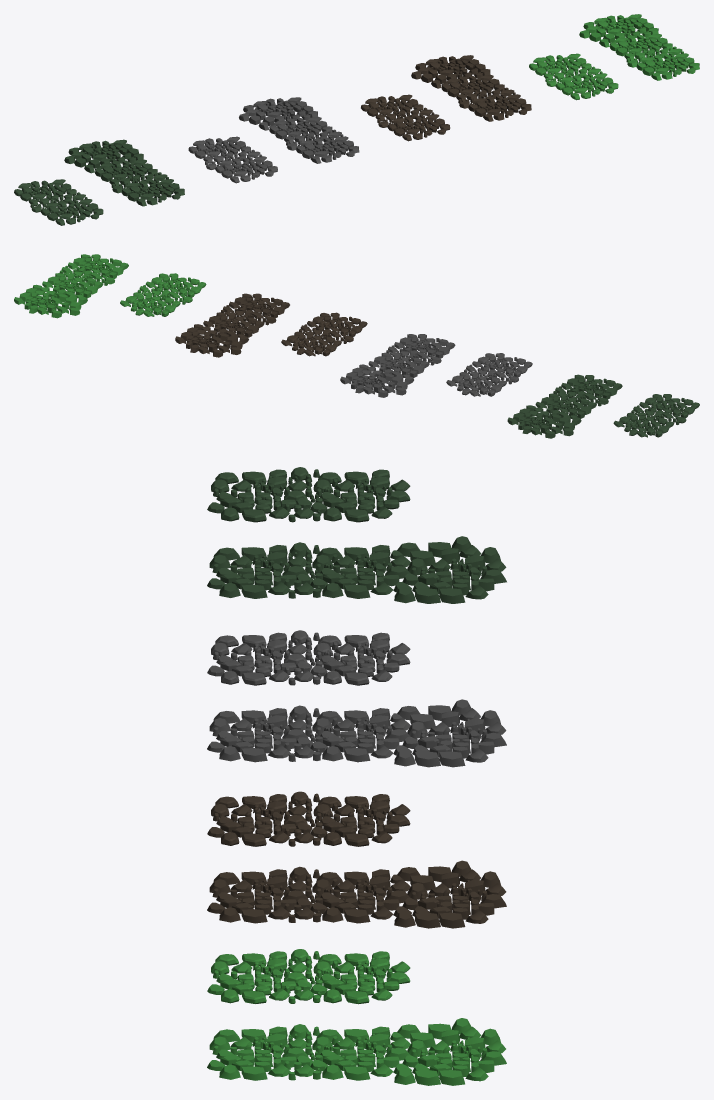
File: rocks.fbx
3 views of the same model, one above another, from view 1: azimuth 30°, elevation 25°; view 2: azimuth 150°, elevation 25°; view 3: azimuth 270°, elevation 25° (orthographic). The views are drawn at different scales.
Visible parts, largest first — view 1: pCube1151, pCube1154, pCube1156, pCube1149, pCube1155, pCube1152, pCube1150, pCube1153; view 2: pCube1156, pCube1151, pCube1149, pCube1154, pCube1152, pCube1150, pCube1155, pCube1153; view 3: pCube1154, pCube1149, pCube1151, pCube1156, pCube1155, pCube1153, pCube1152, pCube1150.
Boxes of the visible parts, x1,y1,x2,y2 form: pCube1151: [64, 139, 184, 206]; pCube1154: [411, 55, 531, 121]; pCube1156: [579, 14, 699, 80]; pCube1149: [239, 97, 359, 163]; pCube1155: [529, 53, 618, 100]; pCube1152: [14, 179, 103, 225]; pCube1150: [188, 136, 277, 183]; pCube1153: [361, 94, 450, 141]; pCube1156: [14, 254, 128, 318]; pCube1151: [507, 374, 622, 438]; pCube1149: [340, 334, 455, 397]; pCube1154: [175, 293, 289, 357]; pCube1152: [613, 394, 699, 437]; pCube1150: [446, 353, 532, 396]; pCube1155: [120, 273, 206, 316]; pCube1153: [281, 312, 367, 356]; pCube1154: [207, 860, 506, 928]; pCube1149: [207, 699, 506, 767]; pCube1151: [207, 536, 506, 603]; pCube1156: [207, 1018, 506, 1085]; pCube1155: [207, 949, 410, 1004]; pCube1153: [207, 791, 410, 846]; pCube1152: [207, 467, 410, 522]; pCube1150: [207, 630, 410, 685].
Bounding box in the file's own units: 441 × 3.32 × 91.33.
